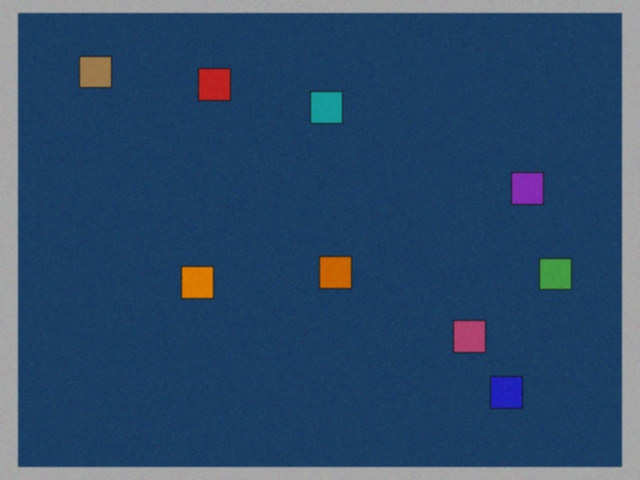block: (80, 56, 123, 96), (481, 369, 522, 409), (527, 257, 571, 290), (199, 69, 236, 108), (447, 316, 486, 353), (501, 172, 543, 206), (182, 265, 219, 298), (310, 92, 342, 130), (320, 256, 352, 289)
